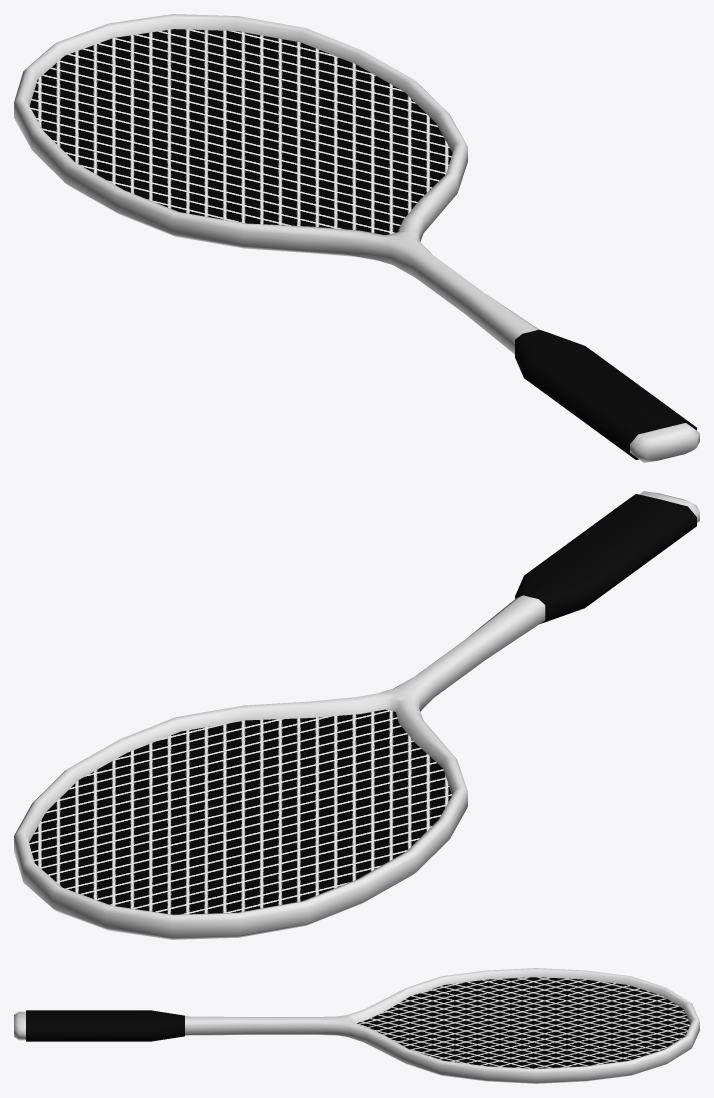
Rendered from racket.fbx.
3 views of the same model, one above another, from view 1: azimuth 30°, elevation 25°; view 2: azimuth 150°, elevation 25°; view 3: azimuth 270°, elevation 25° (orthographic). The views are drawn at different scales.
Visible parts, largest first — view 1: Cylinder; view 2: Cylinder; view 3: Cylinder.
Part boxes in pixels (x1,y1,x2,y2): Cylinder: (14, 14, 699, 462); Cylinder: (14, 491, 699, 939); Cylinder: (14, 968, 699, 1083).
Bounding box in the file's own units: 121 × 8.73 × 337.
